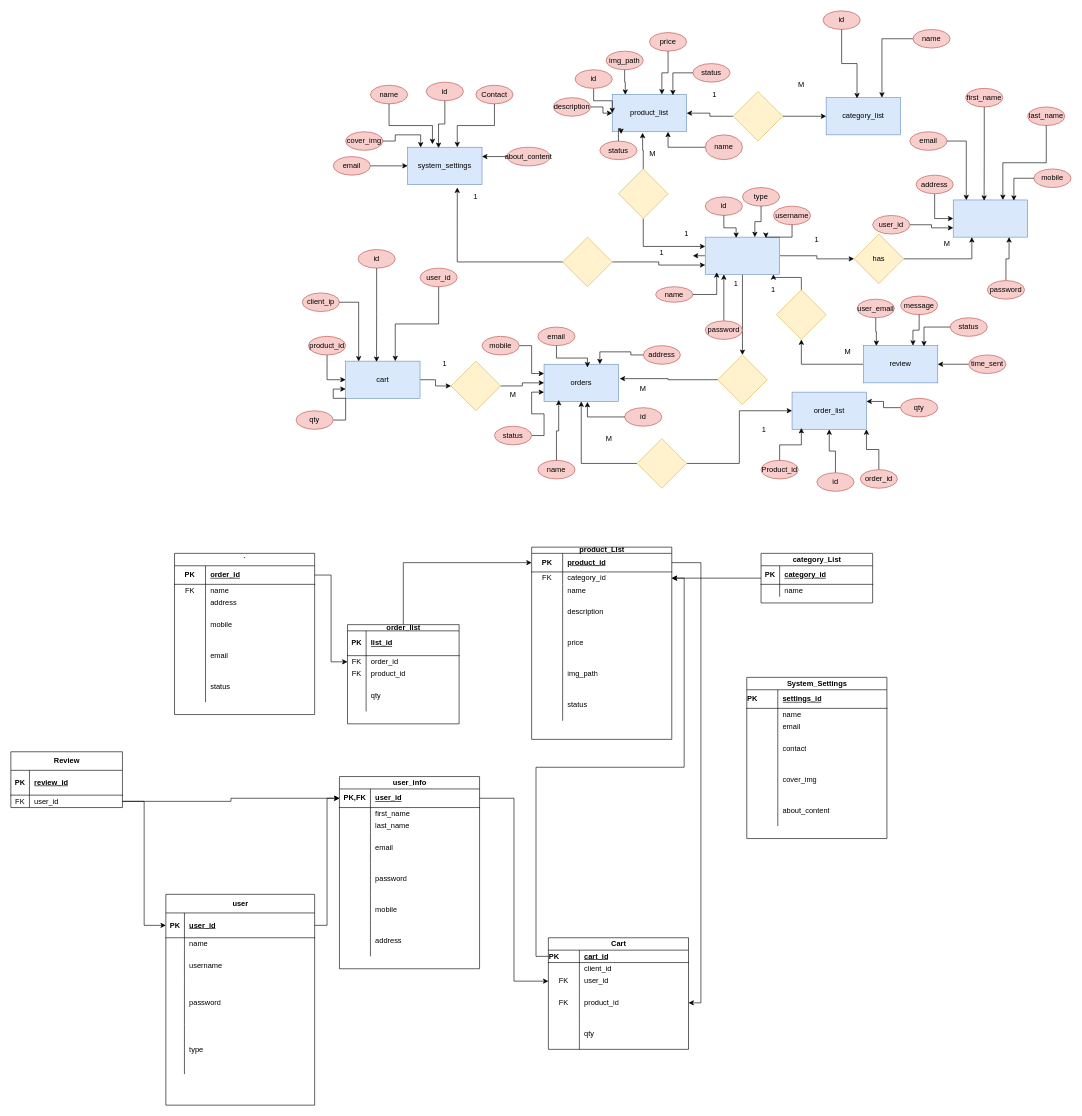
This 1082x1116 diagram has some shape labels left out. The centre of each missing label's shape, as x and y in pixels:
"assigned_on" goes at point 758,116.
"configures" goes at point 587,262.
"creates" goes at point 643,193.
"goes_under" goes at point 661,463.
"makes" goes at point 742,379.
"saved_to" goes at point 475,386.
"submits" goes at point 801,314.
"users" goes at point 742,255.
"usr_info" goes at point 990,218.
